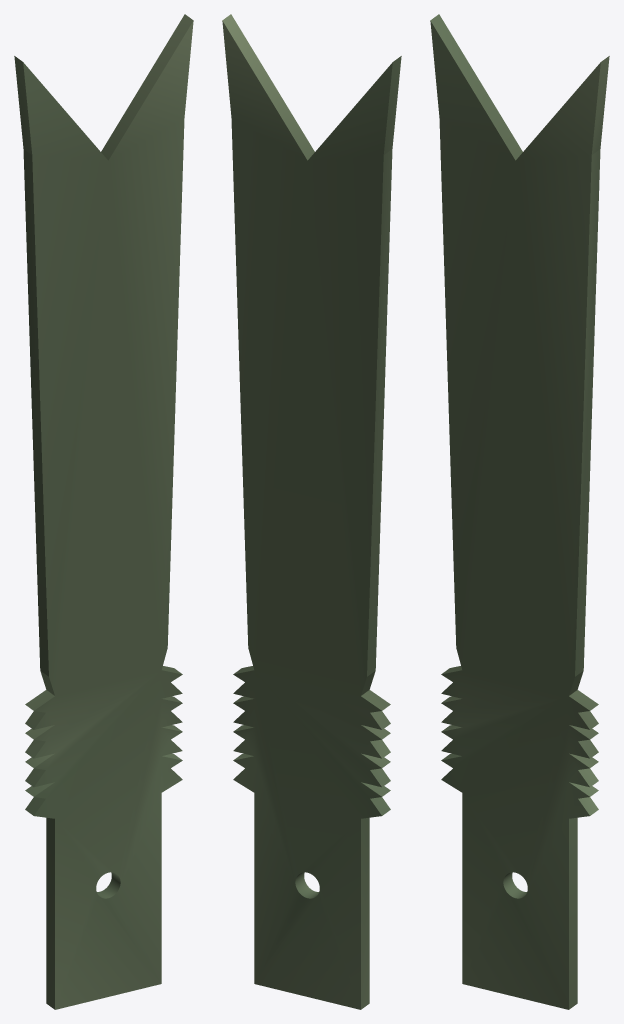
File: yuzhang.glb
3 renders of one model, left to right at view 1: azimuth 30°, elevation 25°; view 2: azimuth 150°, elevation 25°; view 3: azimuth 330°, elevation 25°, orthographic.
Visible parts, largest first — view 1: model; view 2: model; view 3: model.
Boxes of the visible parts, left/top/right/bottom form: model: left=14, top=14, right=193, bottom=1009; model: left=222, top=14, right=401, bottom=1009; model: left=430, top=14, right=609, bottom=1009.
Size of the model in its own units: 0.1867 by 1 by 0.0167.
